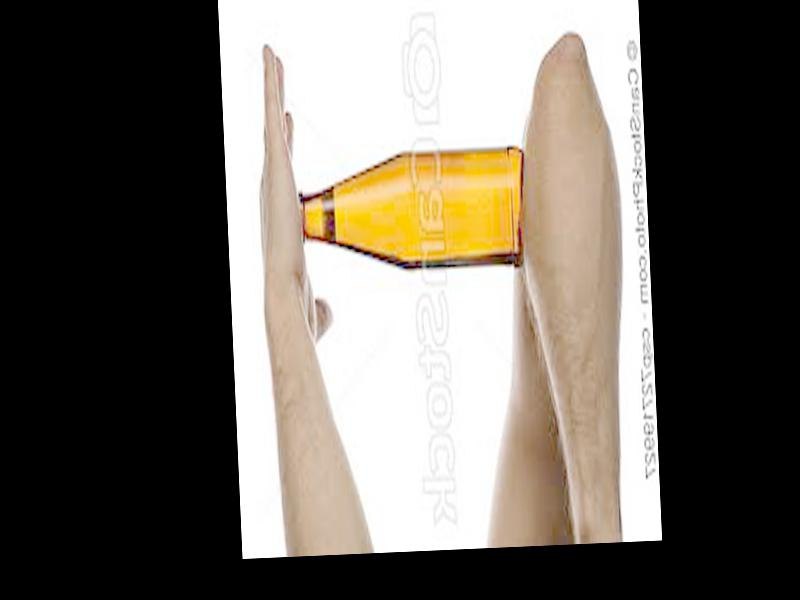Beer: (293, 143, 524, 281)
